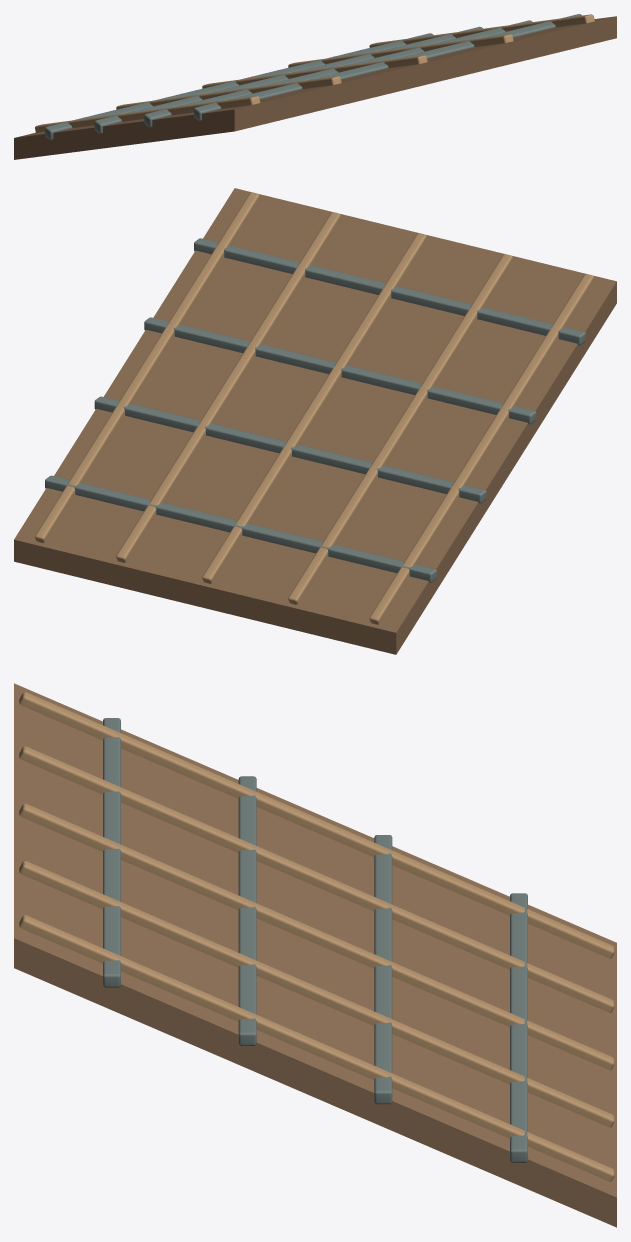
Rendered from SM_Roof_GableHalf_4m.fbx.
3 renders of one model, top to bottom at view 1: azimuth 30°, elevation 25°; view 2: azimuth 150°, elevation 25°; view 3: azimuth 270°, elevation 25°, orthographic. The views are drawn at different scales.
Parts seen in each view (by area): view 1: SM_Roof_GableHalf_4m; view 2: SM_Roof_GableHalf_4m; view 3: SM_Roof_GableHalf_4m.
Part boxes in pixels (<box>): SM_Roof_GableHalf_4m: <box>14,14,616,159</box>; SM_Roof_GableHalf_4m: <box>14,188,616,654</box>; SM_Roof_GableHalf_4m: <box>14,683,616,1227</box>.
Size of the model in its own units: 4.05 by 2.16 by 4.
